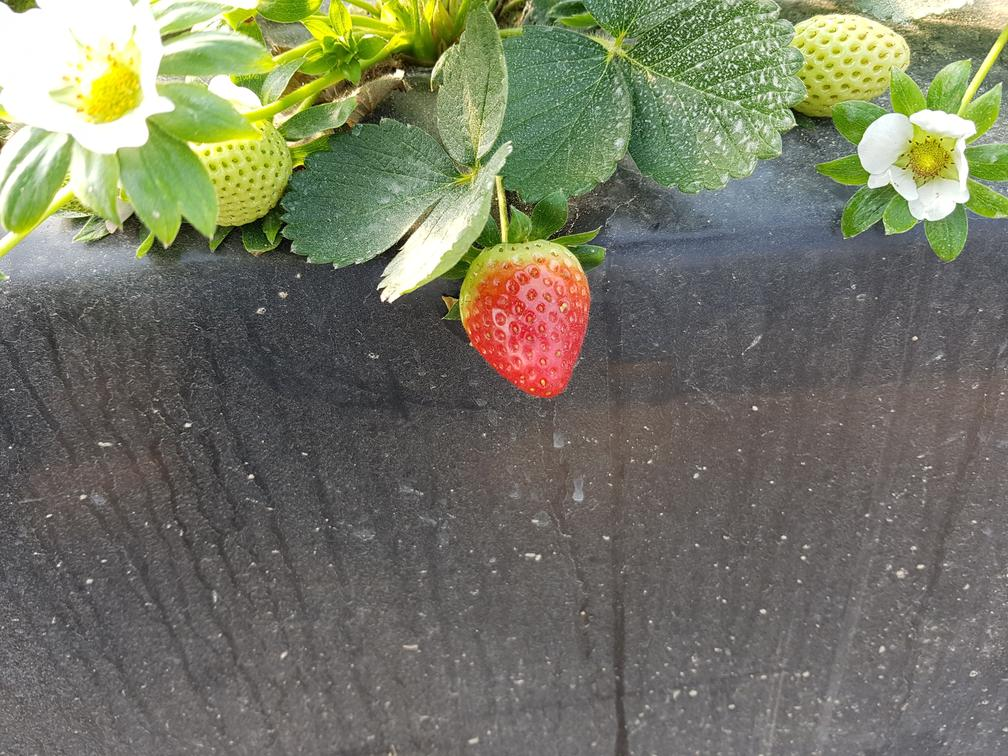Ripe: (462, 250, 602, 402)
Unripe: (794, 11, 913, 124), (206, 126, 298, 222)
